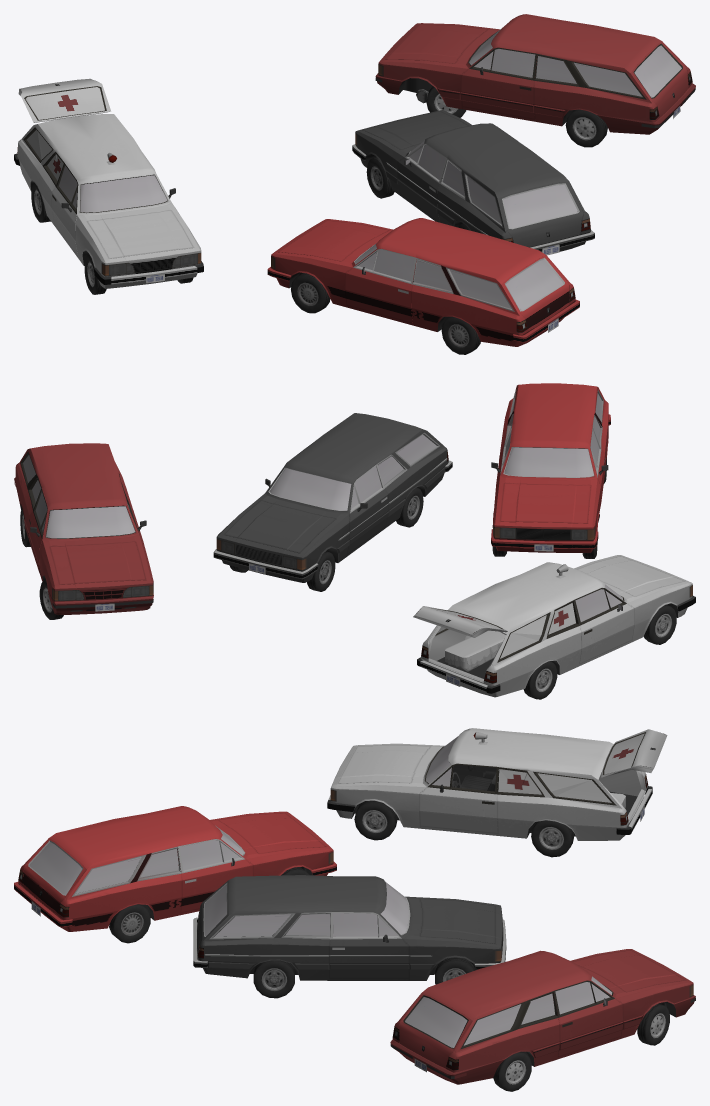
The model's file is chevrolet-caravan.glb.
The picture shows the model from 3 angles, top to bottom: view 1: azimuth 30°, elevation 25°; view 2: azimuth 150°, elevation 25°; view 3: azimuth 270°, elevation 25°; orthographic projection. The views are drawn at different scales.
Visible parts, largest first — view 1: Object_11, Object_9, Object_6, Object_3, Object_8, Object_5, Object_2, Object_7, Object_10, Object_12, Object_4; view 2: Object_11, Object_3, Object_9, Object_6, Object_2, Object_12, Object_4, Object_8, Object_5, Object_10; view 3: Object_11, Object_3, Object_9, Object_6, Object_2, Object_8, Object_12, Object_5, Object_10, Object_4, Object_7.
Part boxes in pixels (<box>): Object_11: <box>14,78,203,288</box>; Object_9: <box>375,14,695,134</box>; Object_6: <box>267,218,579,346</box>; Object_3: <box>352,110,594,255</box>; Object_8: <box>460,47,537,119</box>; Object_5: <box>344,248,416,323</box>; Object_2: <box>397,126,517,222</box>; Object_7: <box>291,273,480,354</box>; Object_10: <box>426,86,607,147</box>; Object_12: <box>31,183,193,294</box>; Object_4: <box>366,157,469,230</box>; Object_11: <box>35,431,695,697</box>; Object_3: <box>213,413,452,582</box>; Object_9: <box>14,443,153,614</box>; Object_6: <box>491,383,610,552</box>; Object_2: <box>265,447,388,554</box>; Object_12: <box>523,604,676,699</box>; Object_4: <box>229,487,423,591</box>; Object_8: <box>28,483,146,572</box>; Object_5: <box>491,424,608,505</box>; Object_10: <box>20,508,63,619</box>; Object_11: <box>180,728,667,1014</box>; Object_3: <box>193,875,506,980</box>; Object_9: <box>390,949,695,1084</box>; Object_6: <box>14,806,336,931</box>; Object_2: <box>329,911,409,978</box>; Object_8: <box>552,980,623,1057</box>; Object_12: <box>354,800,574,857</box>; Object_5: <box>177,838,253,913</box>; Object_10: <box>493,1003,669,1091</box>; Object_4: <box>253,957,475,998</box>; Object_7: <box>109,867,309,943</box>.
Bounding box in the file's own units: 0.1413 × 0.0204 × 0.1285.
Materials: 11 (11 with a texture image).
